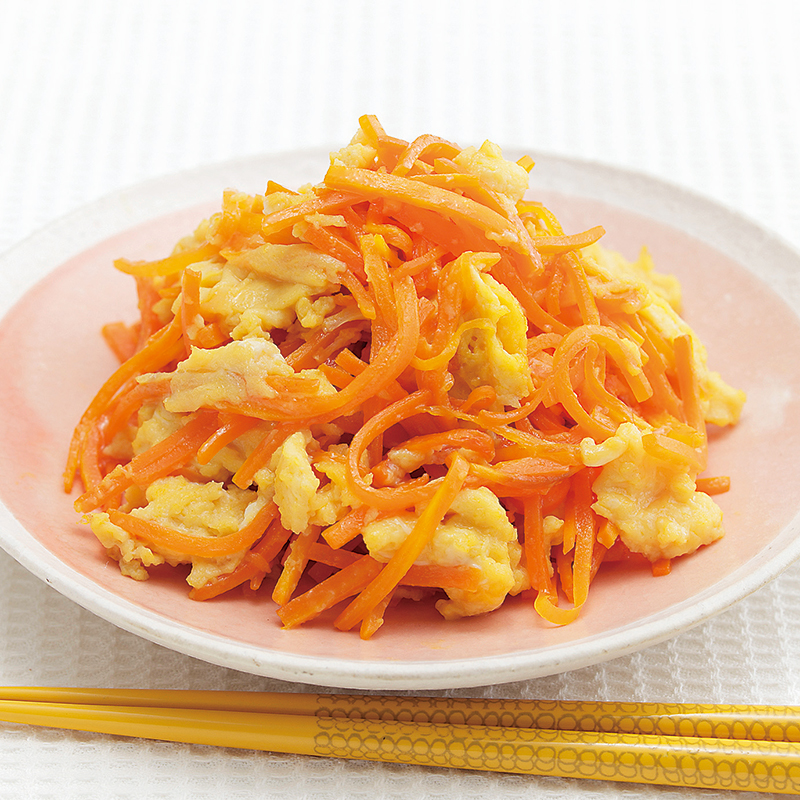carrot_eggs: (97, 126, 743, 632), (149, 224, 448, 613), (439, 158, 694, 548)
